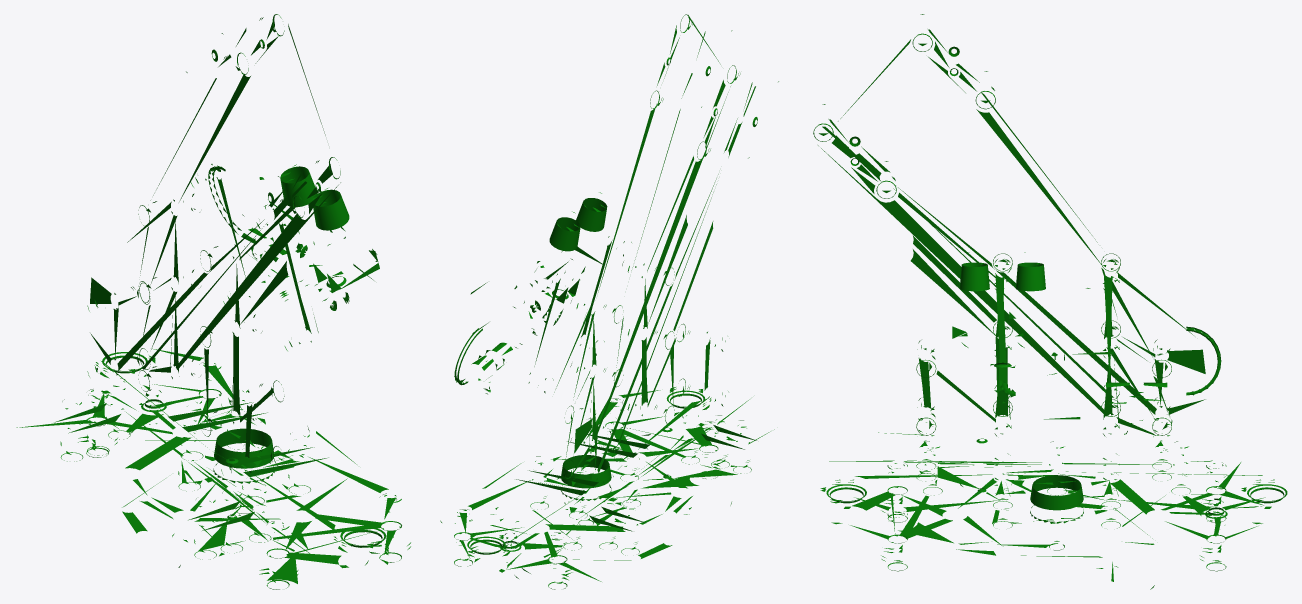
The model's file is F266820012936_003_anbindung_Rep.dae.
3 views of the same model, side by side, from view 1: azimuth 30°, elevation 25°; view 2: azimuth 150°, elevation 25°; view 3: azimuth 270°, elevation 25° (orthographic). The views are drawn at different scales.
Visible parts, largest first — view 1: F266820012936_003_anbindung; view 2: F266820012936_003_anbindung; view 3: F266820012936_003_anbindung.
Part boxes in pixels (x1,y1,x2,y2): F266820012936_003_anbindung: (16, 14, 410, 589); F266820012936_003_anbindung: (440, 14, 778, 589); F266820012936_003_anbindung: (813, 14, 1287, 589).
Bounding box in the file's own units: 198 × 376 × 431.
